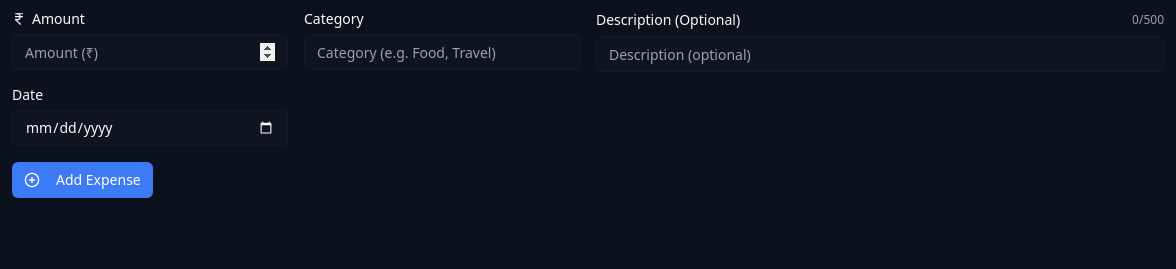
Test: ExpenseForm › shows validation error for negative amount
In the number field labelled "Amount": (150, 52) [12,34,288,70], type "-10"
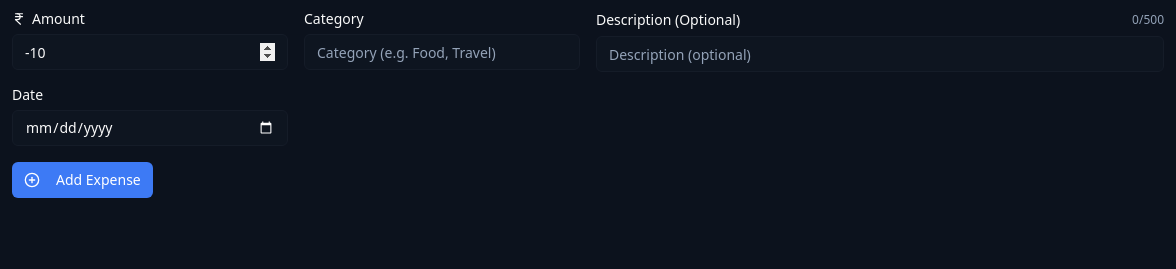
Click the button "Add Expense": (82, 180) [12,162,153,198]
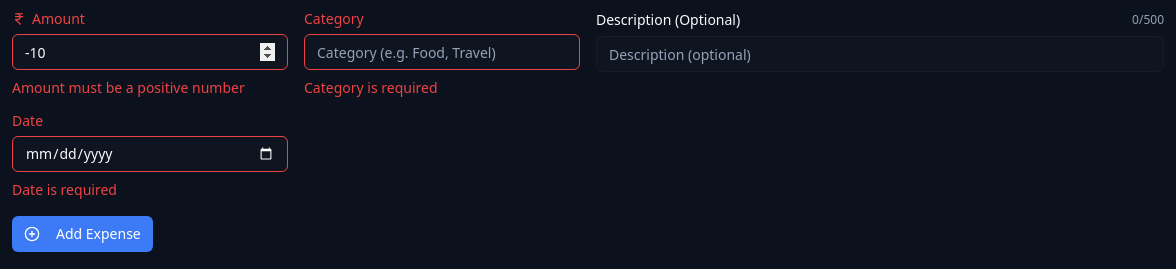
Expected: the text "Amount must be a positive number" is shown, [12,78,245,97]
